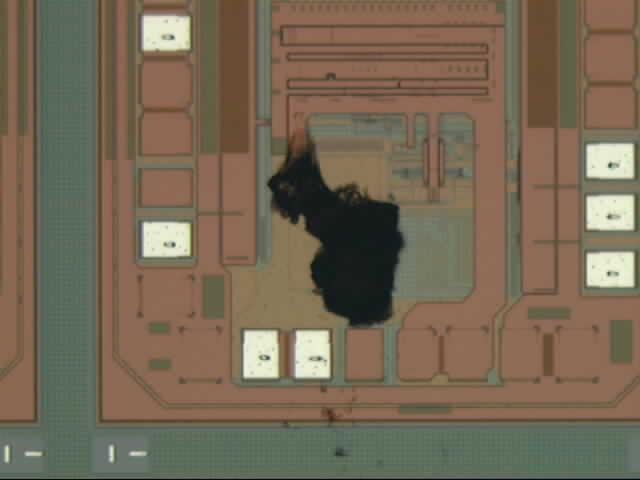PO CONTAMINATION: (259, 114, 410, 333)
